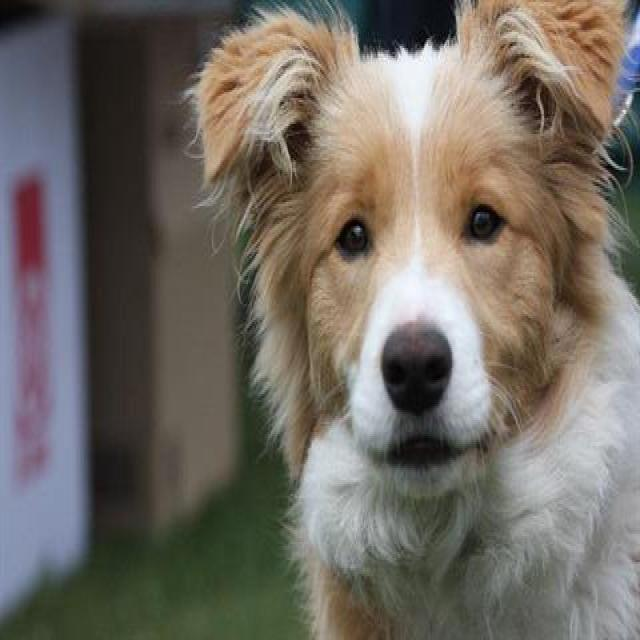Dog: (188, 2, 635, 512)
